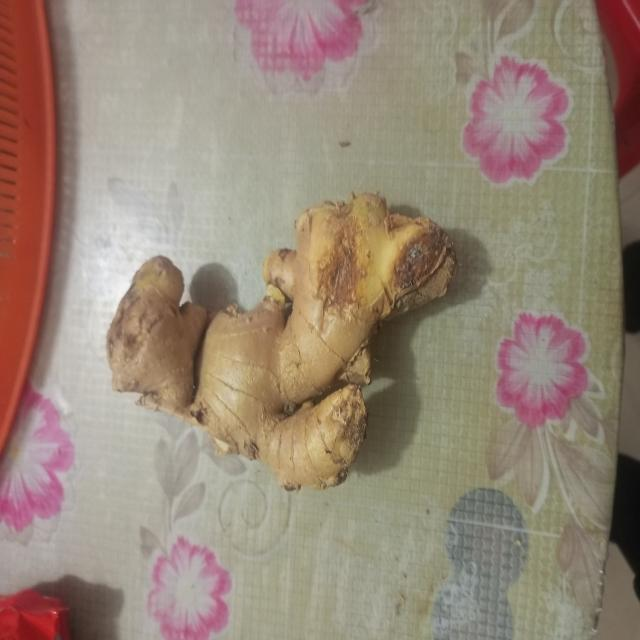ginger: (120, 195, 448, 480)
